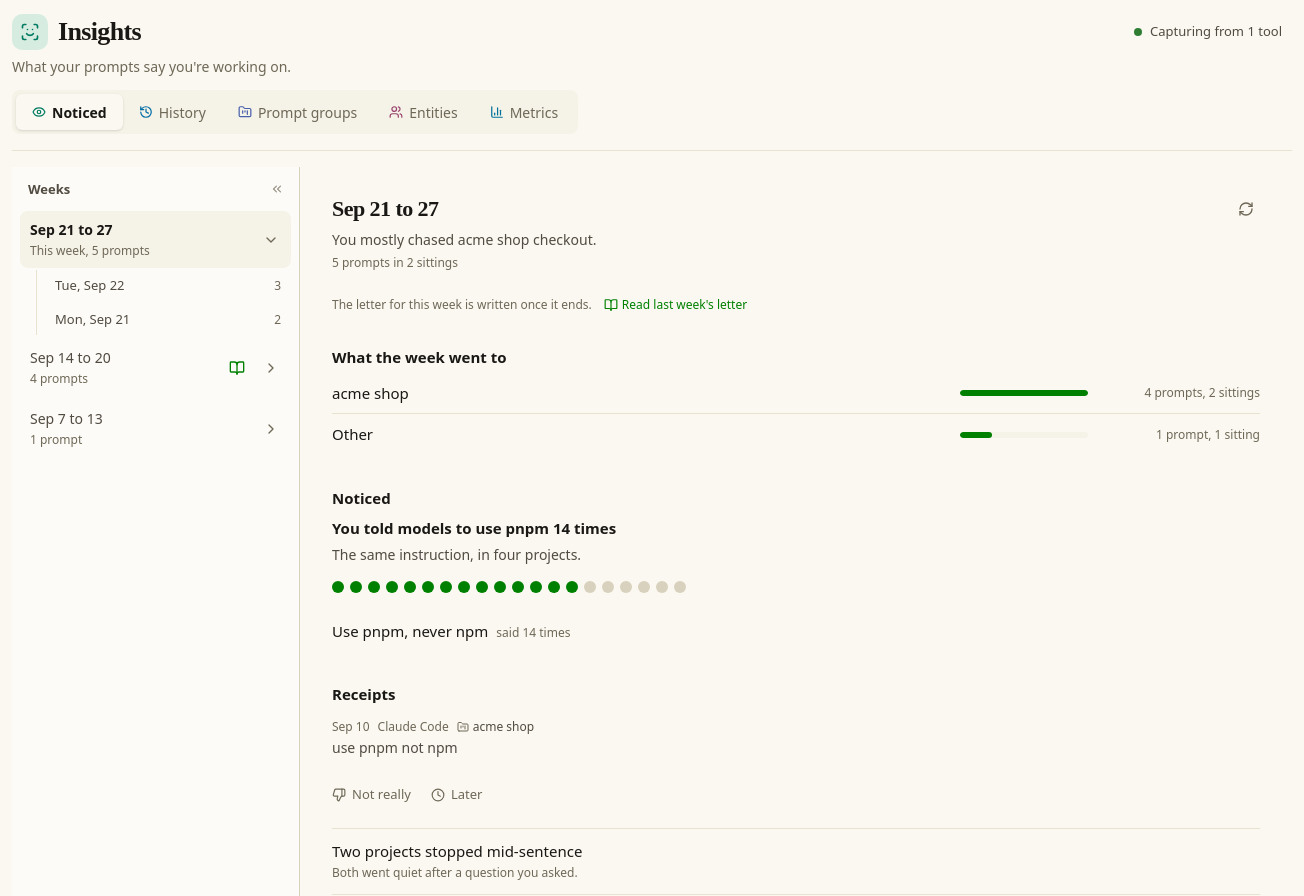
it: Noticed › last week's letter is one click away, and opens with its week
Click the button "Read last week's letter".
click(675, 305)  # box [604,296,747,314]
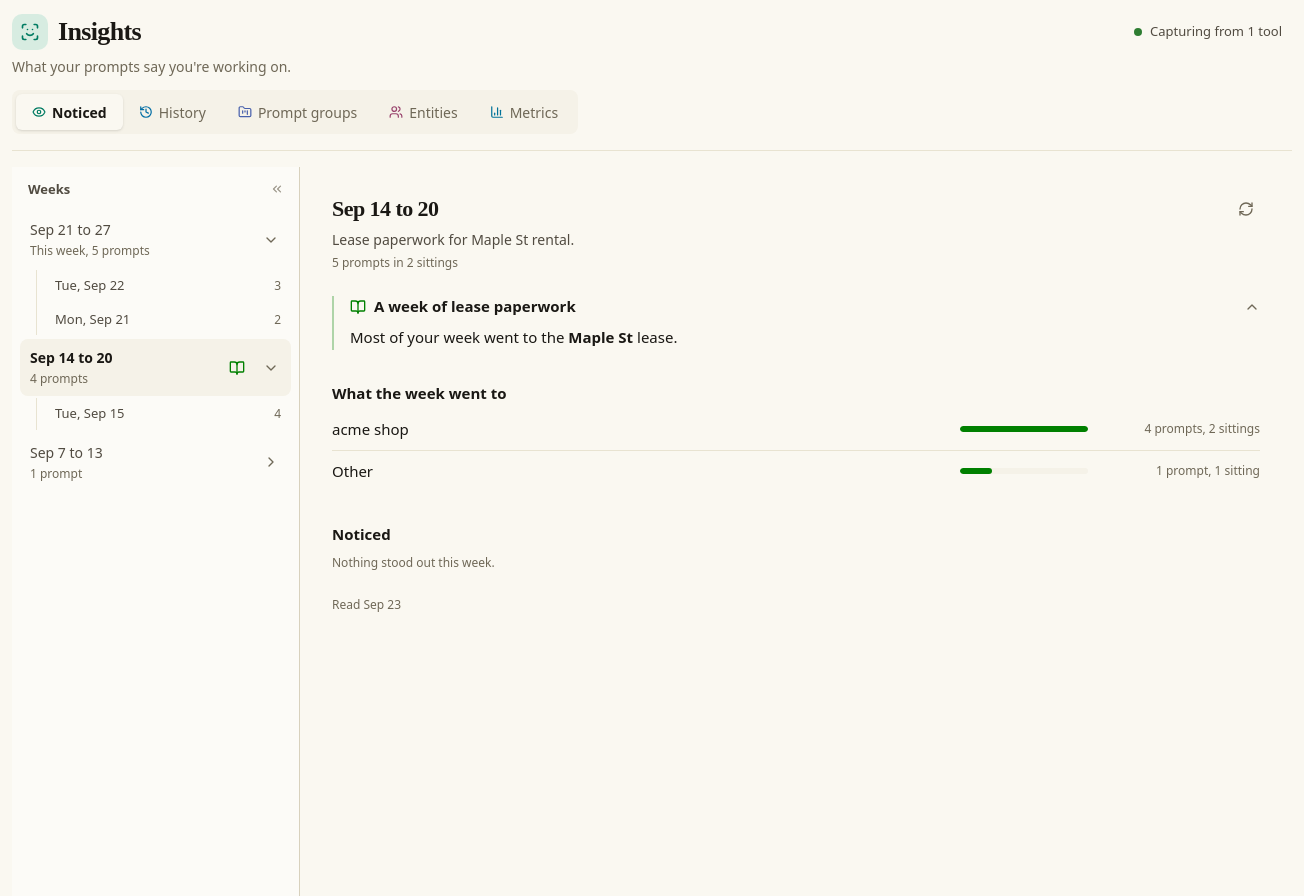
Expected: the text "A week of lease paperwork" is shown, [374,296,576,316]
Expected: the text with test id "nothing-noticed" reads "Nothing stood out this week.", [332,554,495,571]
